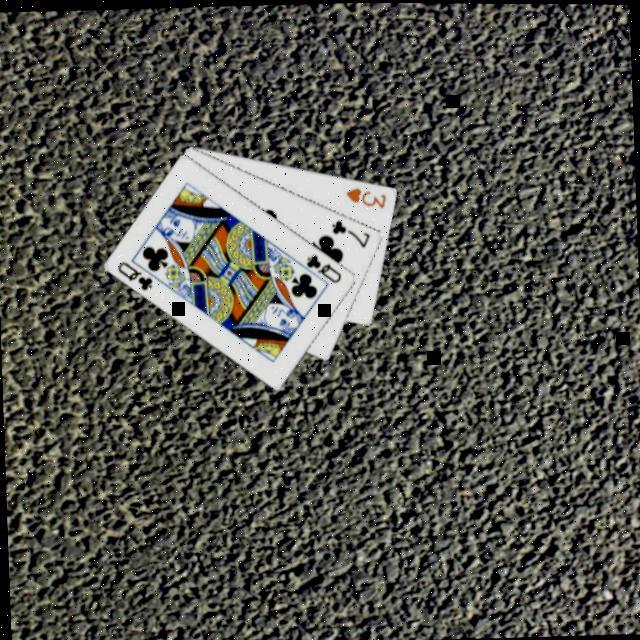3H: (344, 180, 391, 210)
7C: (330, 213, 375, 249)
QC: (115, 255, 158, 292), (304, 248, 346, 284)
